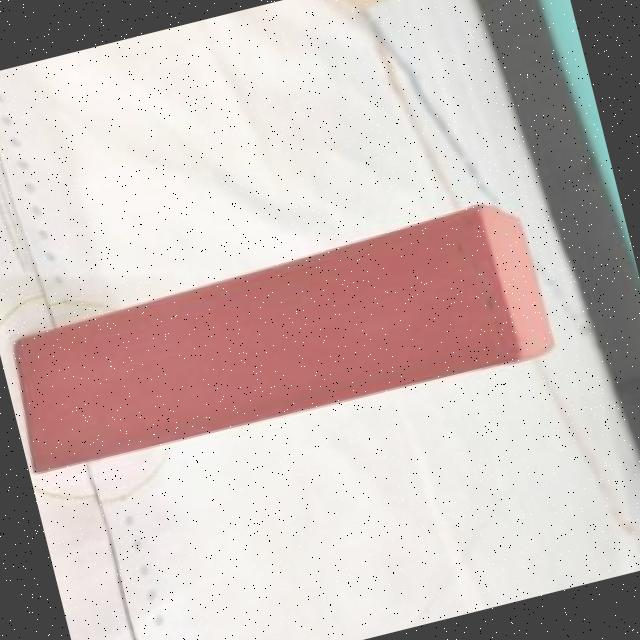redbox: (0, 195, 560, 484)
